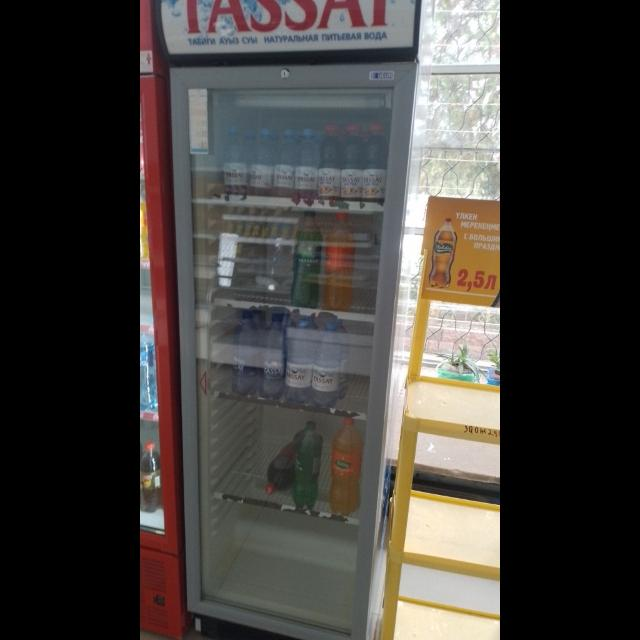Cooling-Display: (160, 1, 422, 640)
